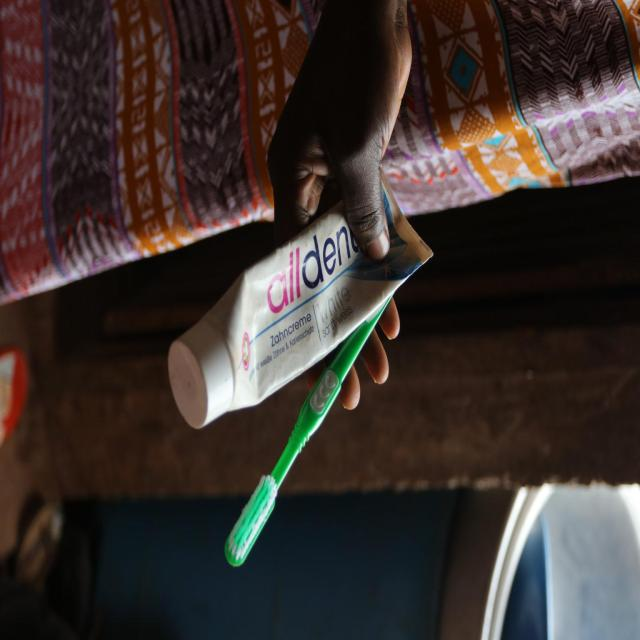Toothpaste: (147, 170, 438, 430)
